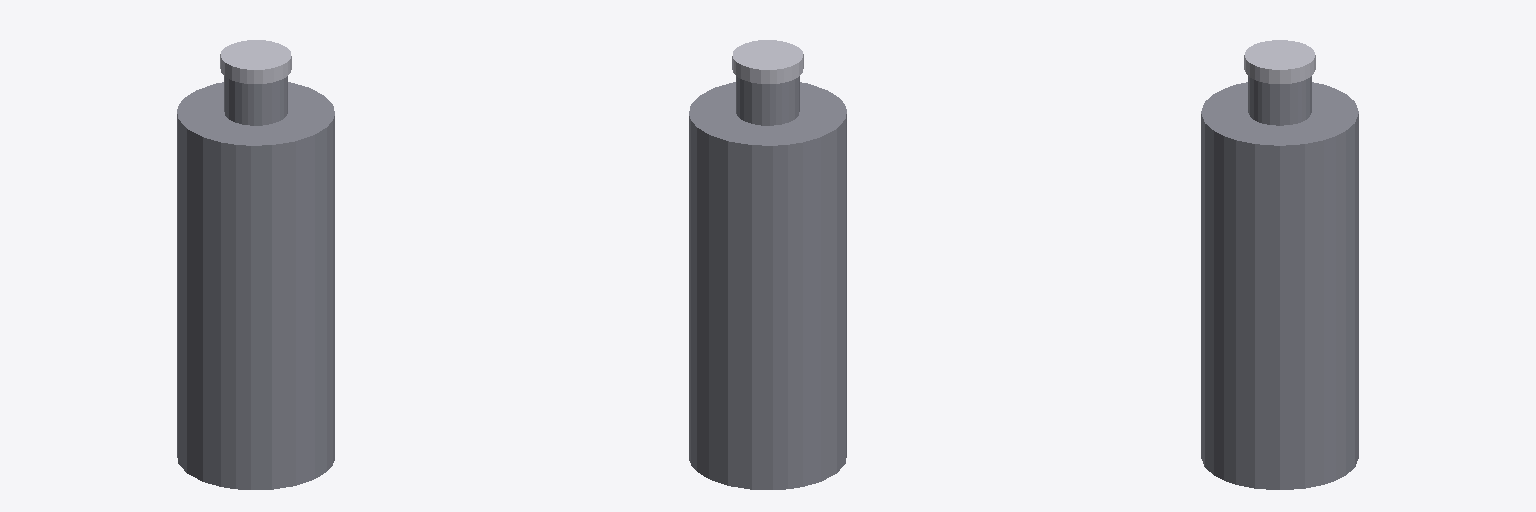
File: WaterBottle.obj
The picture shows the model from 3 angles: view 1: azimuth 30°, elevation 25°; view 2: azimuth 150°, elevation 25°; view 3: azimuth 270°, elevation 25°; orthographic projection.
Parts seen in each view (by area): view 1: Part1, Part4, Part2, Part3; view 2: Part1, Part4, Part2, Part3; view 3: Part1, Part4, Part2, Part3.
Part boxes in pixels (x1,y1,x2,y2): Part1: (177, 171, 334, 489); Part4: (177, 82, 334, 202); Part2: (220, 40, 291, 83); Part3: (224, 76, 287, 125); Part1: (689, 171, 846, 489); Part4: (689, 82, 846, 202); Part2: (732, 40, 803, 83); Part3: (736, 76, 799, 125); Part1: (1201, 172, 1358, 489); Part4: (1201, 82, 1358, 202); Part2: (1244, 40, 1315, 83); Part3: (1248, 76, 1311, 125).
Size of the model in its own units: 1 by 2.8 by 1.